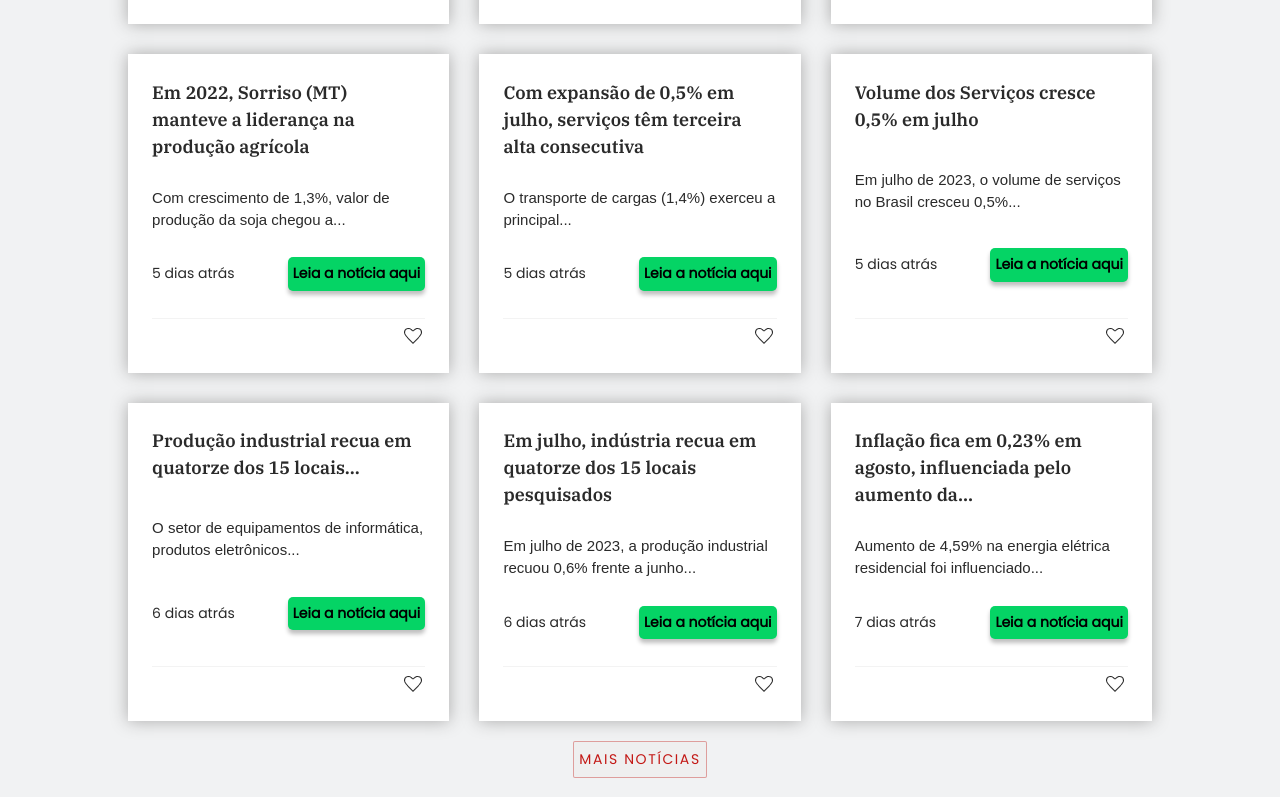
Test: Testes do App › Teste se botão renderizar mais noticias está funcionando conforme esperado
(page scrolled)
Click the button with test id "moreNewsBtn": point(640, 759) left=573, top=741, right=707, bottom=778
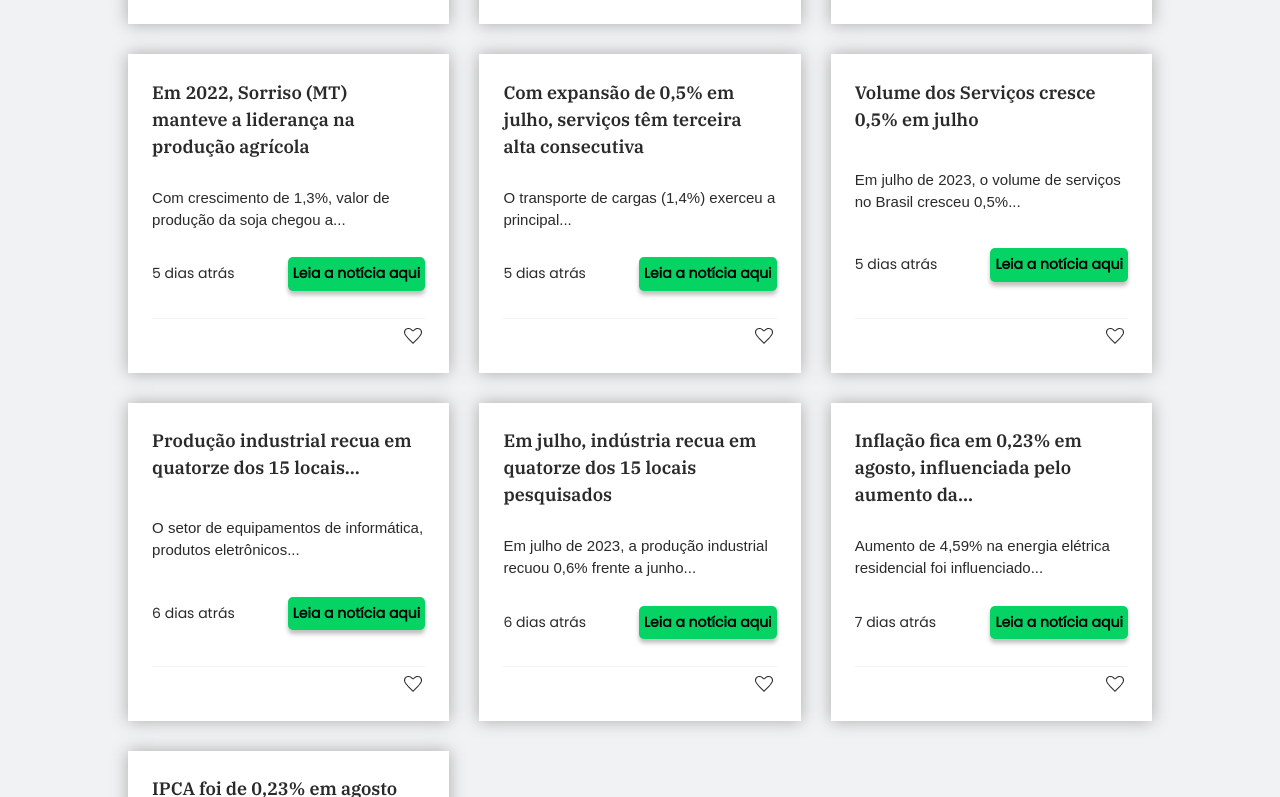
Result: the number of elements with test id "favButton" is 10
